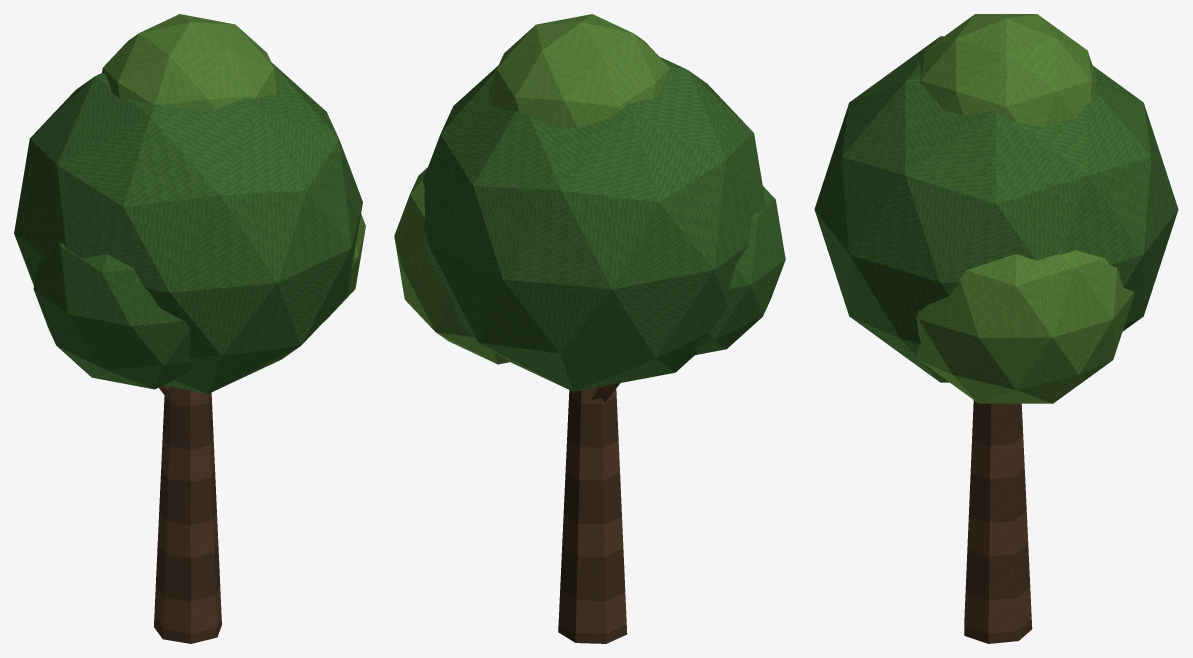
Rendered from tree-lod0.glb.
The picture shows the model from 3 angles, left to right: view 1: azimuth 30°, elevation 25°; view 2: azimuth 150°, elevation 25°; view 3: azimuth 270°, elevation 25°; orthographic projection. The views are drawn at different scales.
Parts seen in each view (by area): view 1: tree-lod0; view 2: tree-lod0; view 3: tree-lod0.
Boxes of the visible parts, left/top/right/bottom form: tree-lod0: left=14, top=14, right=365, bottom=643; tree-lod0: left=394, top=14, right=785, bottom=643; tree-lod0: left=814, top=14, right=1178, bottom=643.
Bounding box in the file's own units: 2.35 × 4.17 × 2.24.
1 material, 1 textured.
